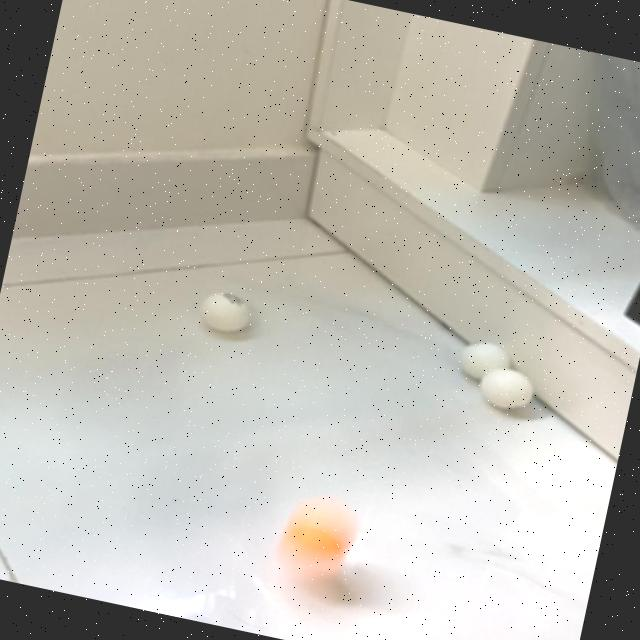ping-pong-ball: (275, 496, 357, 578), (452, 333, 510, 384), (475, 363, 534, 413), (192, 285, 252, 334)
